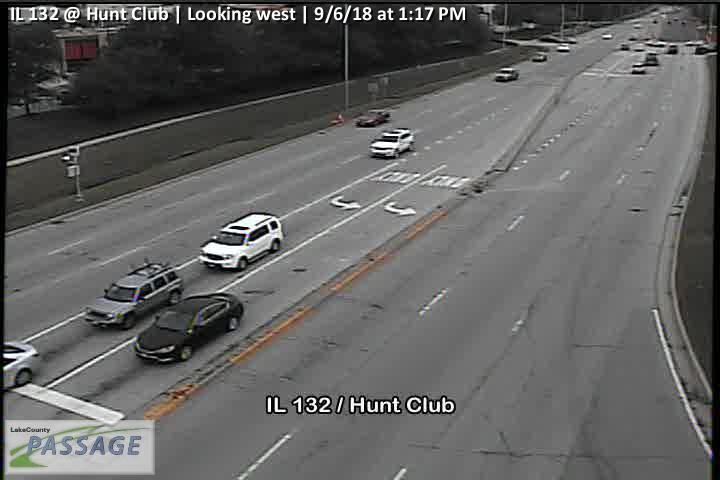SUV: (85, 264, 184, 329), (200, 212, 285, 269), (369, 128, 415, 159), (646, 51, 660, 65)
Sedan: (135, 292, 243, 363), (356, 108, 390, 128), (496, 67, 519, 81), (631, 62, 645, 73), (533, 52, 547, 62), (557, 42, 569, 51)
